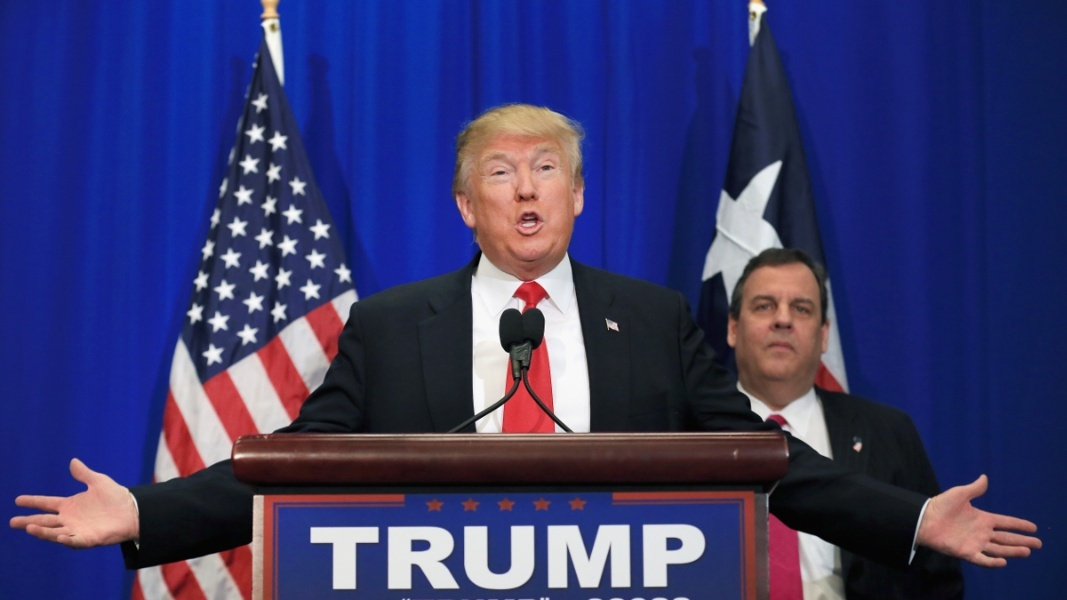text: (321, 523, 336, 590), (337, 523, 352, 590), (353, 523, 368, 590), (369, 523, 384, 590), (385, 523, 400, 590), (401, 523, 416, 590), (417, 523, 432, 590), (433, 523, 448, 590), (449, 523, 464, 590), (465, 523, 480, 590), (481, 523, 496, 590), (497, 523, 512, 590), (513, 523, 528, 590), (529, 523, 544, 590), (545, 523, 560, 590), (561, 523, 576, 590), (577, 523, 592, 590), (593, 523, 608, 590), (609, 523, 624, 590), (625, 523, 640, 590), (641, 523, 656, 590), (657, 523, 672, 590), (673, 523, 688, 590), (689, 523, 704, 590), (309, 523, 320, 590), (705, 523, 708, 590)
